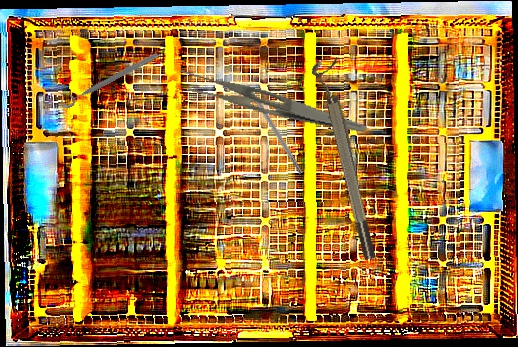Dressing Forceps: (172, 66, 373, 135)
Fixation Ring: (310, 57, 379, 263), (56, 44, 161, 111)
Hook Surgical: (240, 75, 305, 175)
